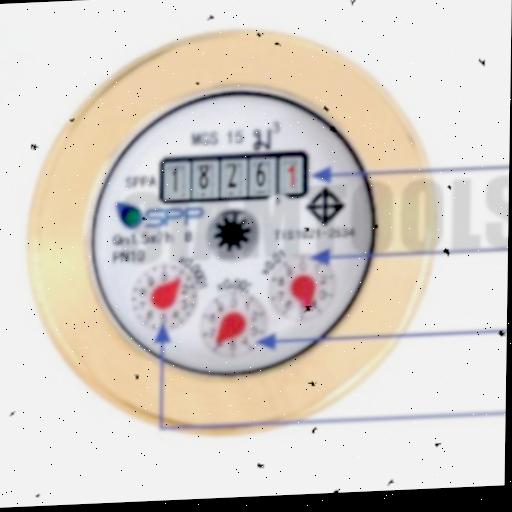1: (167, 167, 185, 199), (284, 162, 300, 192)
2: (224, 163, 242, 196)
6: (254, 163, 270, 196)
8: (196, 165, 212, 199)
border_water_meter_number: (158, 150, 310, 205)
